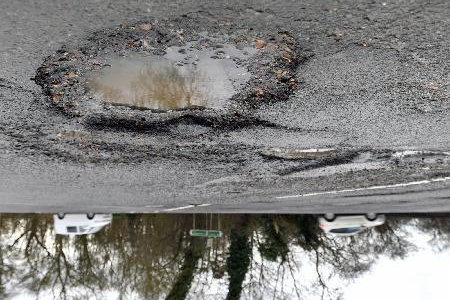pothole: (30, 17, 305, 137), (255, 142, 358, 177)
